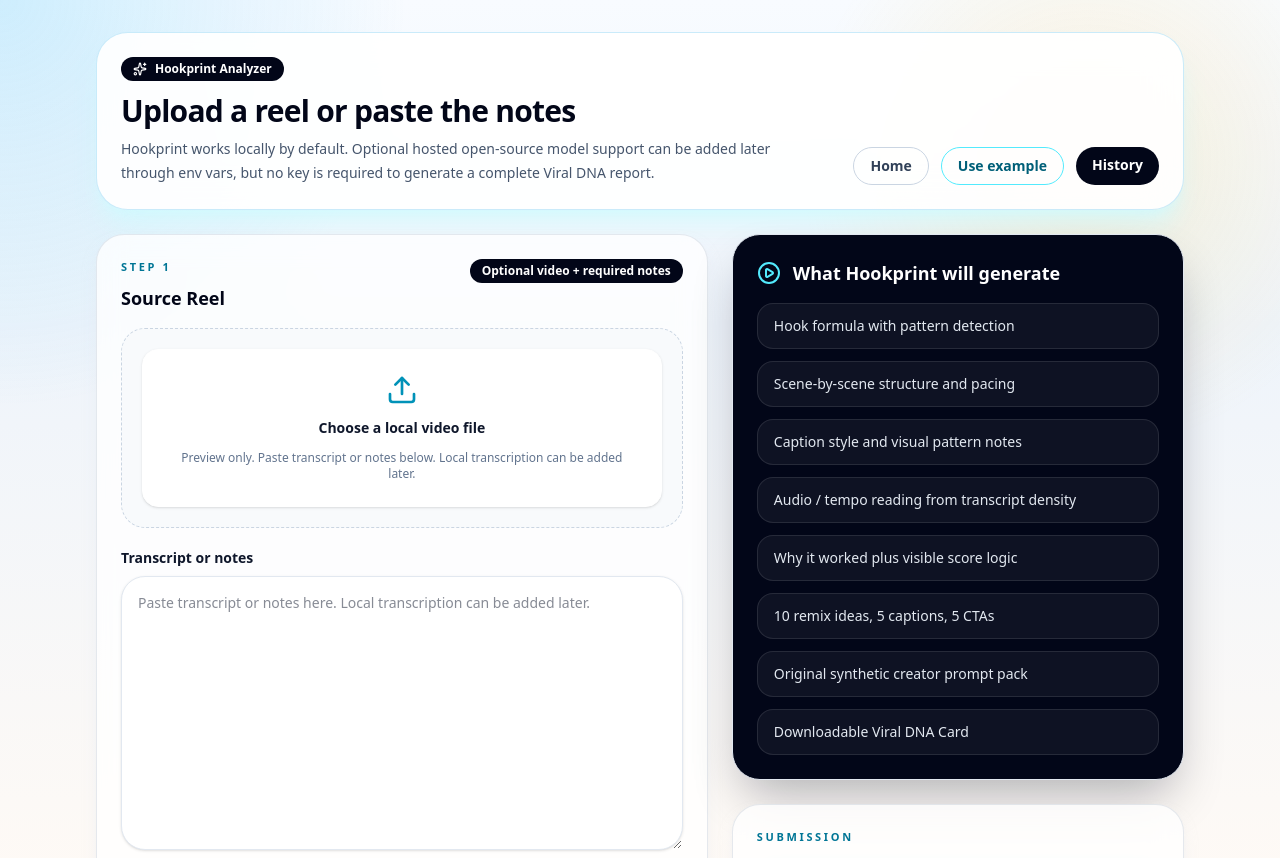
Test: AnalyzeForm › fills the example payload into the form
The image size is (1280, 858).
Click the button "Use example": coordinates (1002, 166) [941,147,1064,185]
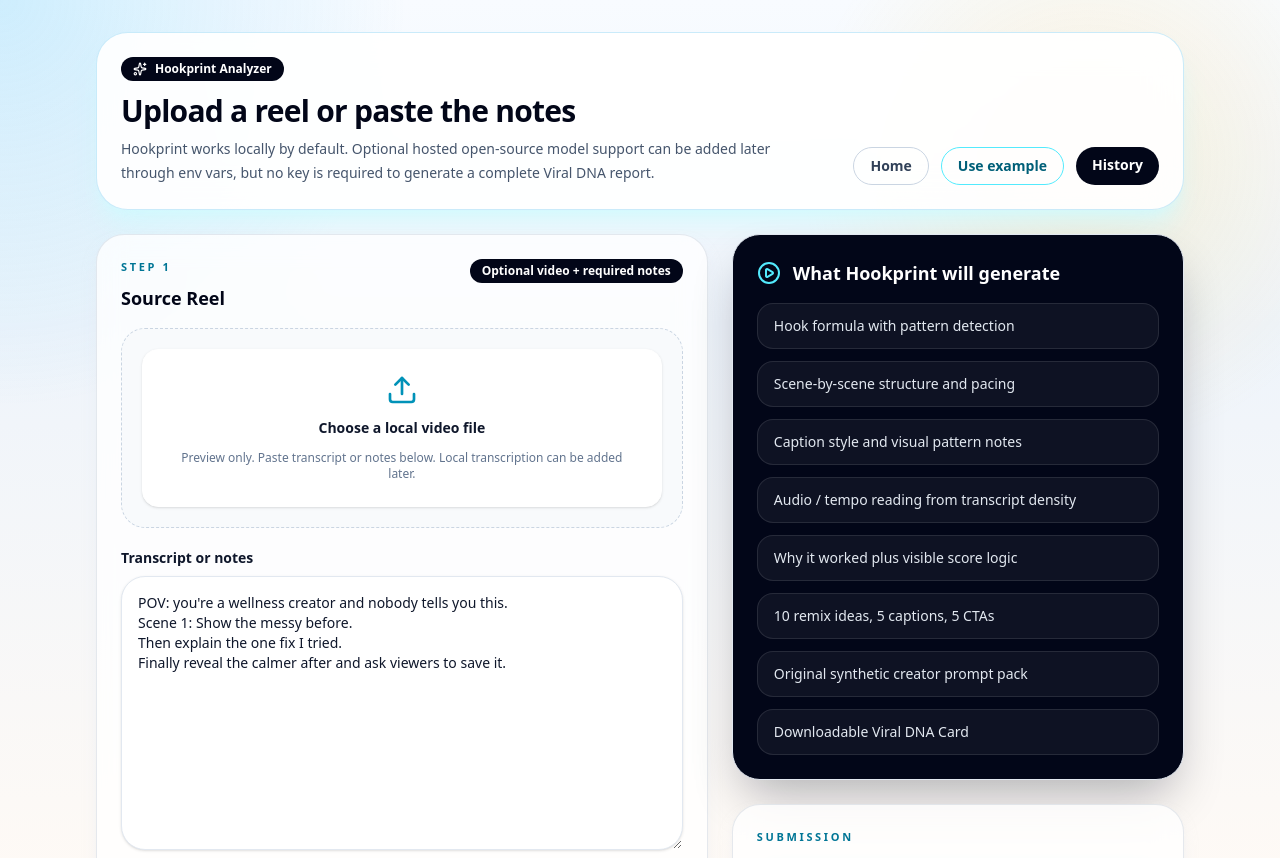
Now the text box showing "POV: you're a wellness creator and nobody tells you this." is shown, box [121,576,683,850]
